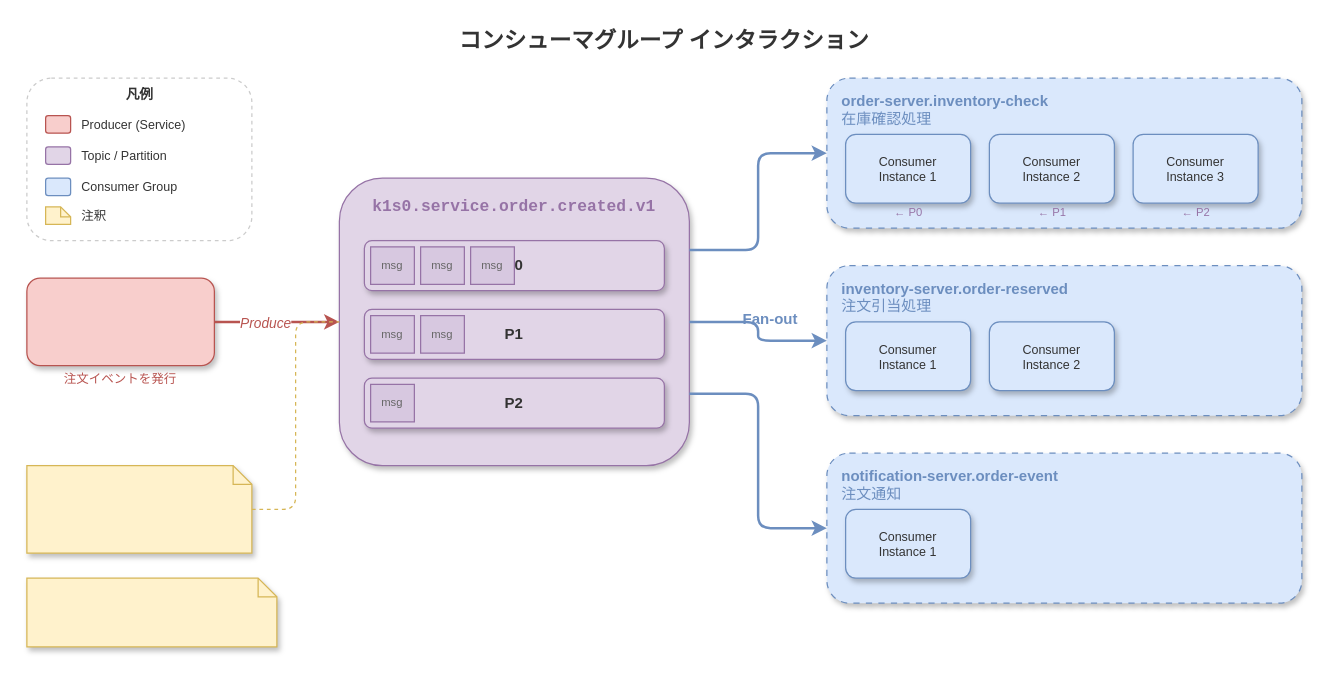
The diagram is 1331 pixels wide and 678 high, and some of its shapes have lost their labels. Here are the shapes that lost their labels. From the top down, the centre of each, then its label:
At (121,323): "Order Service （Producer）".
At (140,510): "各コンシューマグループは 独立したオフセットを保持".
At (152,614): "命名規約: {service-name}.{purpose}".
